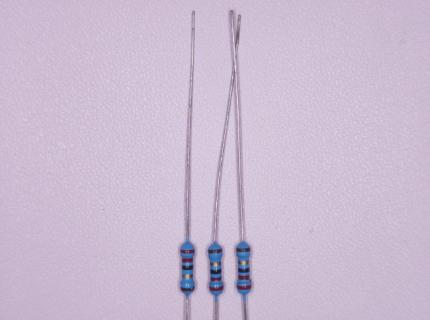Black band: (238, 267, 249, 273), (182, 265, 193, 270), (210, 269, 221, 274)
Brown band: (236, 247, 250, 252), (209, 249, 222, 254), (180, 287, 194, 291)
Gold band: (210, 262, 221, 267), (238, 260, 249, 265), (182, 275, 193, 279)
Red band: (209, 285, 223, 291), (237, 284, 252, 289), (238, 275, 249, 280), (182, 258, 193, 262), (180, 250, 194, 253), (211, 277, 221, 281)
